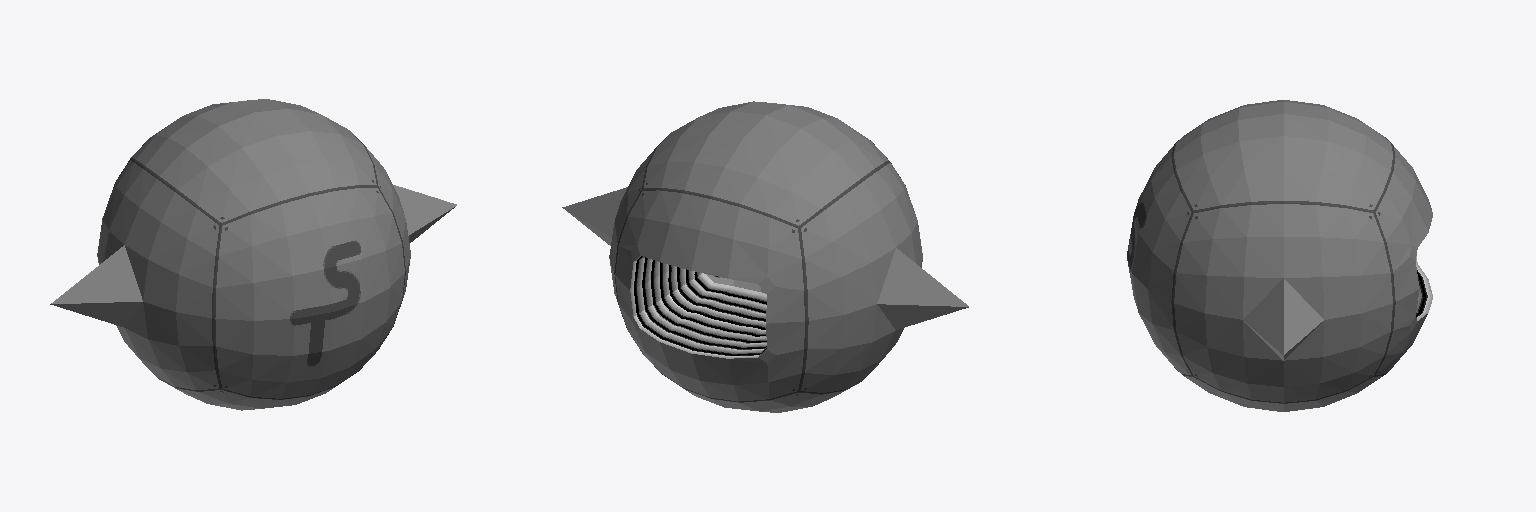
3 views of the same model, side by side, from view 1: azimuth 30°, elevation 25°; view 2: azimuth 150°, elevation 25°; view 3: azimuth 270°, elevation 25° (orthographic).
Parts seen in each view (by area): view 1: Cube; view 2: Cube; view 3: Cube.
Boxes of the visible parts, x1=… form: Cube: x1=50, y1=99, x2=456, y2=410; Cube: x1=562, y1=101, x2=968, y2=412; Cube: x1=1127, y1=100, x2=1432, y2=411.
Bounding box in the file's own units: 1.56 × 1.04 × 1.02.
Materials: 2 (2 with a texture image).